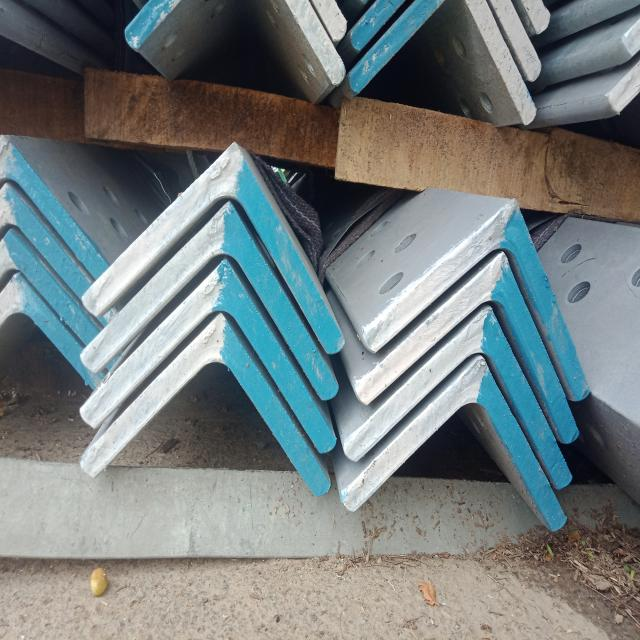metal-angles: (83, 142, 346, 355), (80, 201, 339, 400), (80, 259, 337, 453), (80, 311, 332, 496), (361, 198, 590, 400), (353, 252, 580, 444), (343, 308, 573, 489), (340, 355, 567, 531), (0, 271, 106, 391), (0, 227, 102, 346), (1, 182, 93, 299)
